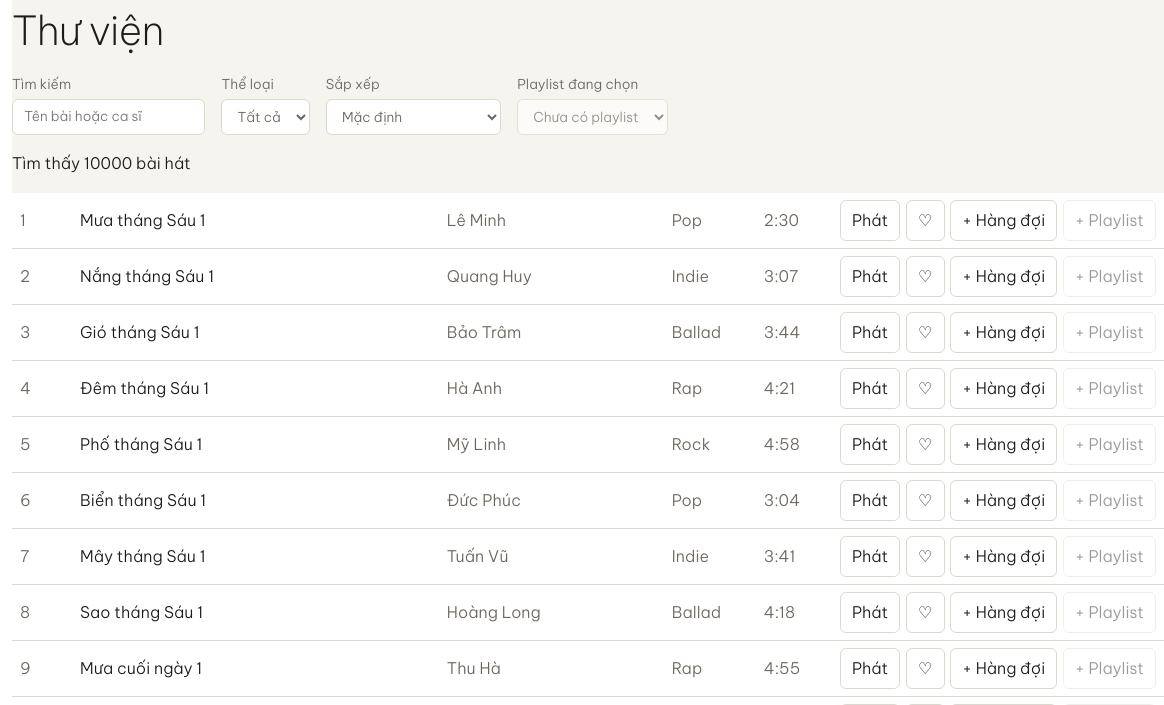
it: LibraryPage › sắp xếp Tên A–Z thì dòng đầu là Biển bình yên 1
This screenshot has width=1164, height=705.
Select "Tên A–Z" in the dropdown labelled "Sắp xếp" at coordinates (414, 117), box [326, 99, 501, 135]
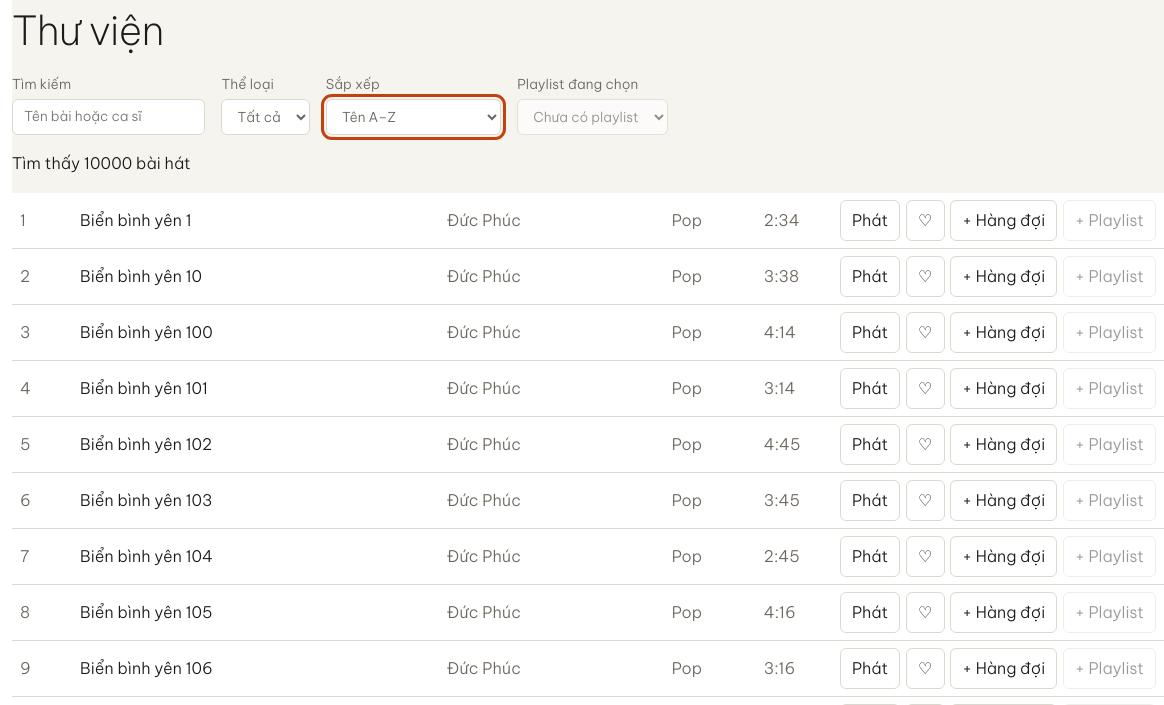
expect the text "Biển bình yên 1" is shown: met, box [80, 210, 192, 230]
